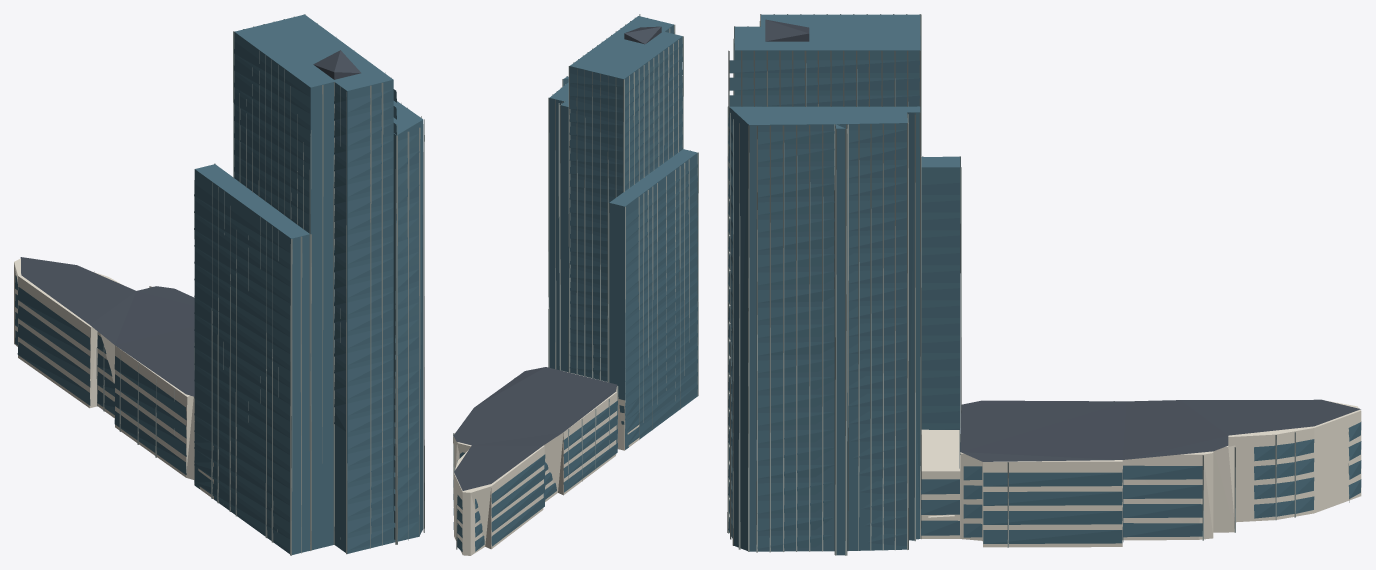
The model's file is breitner-tower.lod1.glb.
3 renders of one model, left to right at view 1: azimuth 30°, elevation 25°; view 2: azimuth 150°, elevation 25°; view 3: azimuth 270°, elevation 25°, orthographic. The views are drawn at different scales.
Parts seen in each view (by area): view 1: breitner-tower; view 2: breitner-tower; view 3: breitner-tower.
Part boxes in pixels (x1,y1,x2,y2): breitner-tower: (14, 14, 424, 555); breitner-tower: (453, 14, 698, 555); breitner-tower: (727, 14, 1361, 555).
Size of the model in its own units: 29.16 by 95.01 by 111.
